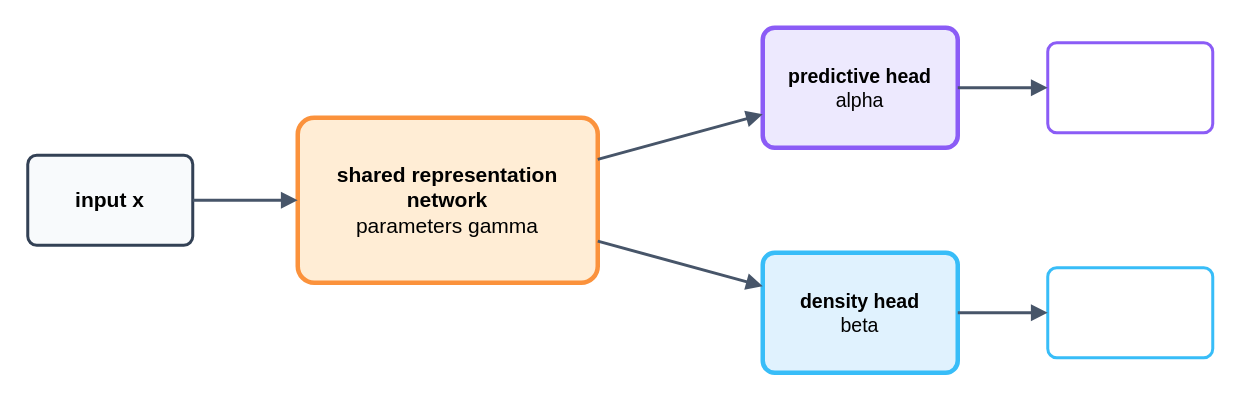
The diagram is 1239 pixels wide and 401 high, and some of its shapes have lost their labels. The shapes that lost their labels are listed below. From the top down, each one's centre as x and y in pixels, then its label:
(x=1130, y=87): p(y | x) shared gamma
(x=1130, y=312): p(x) shared gamma
